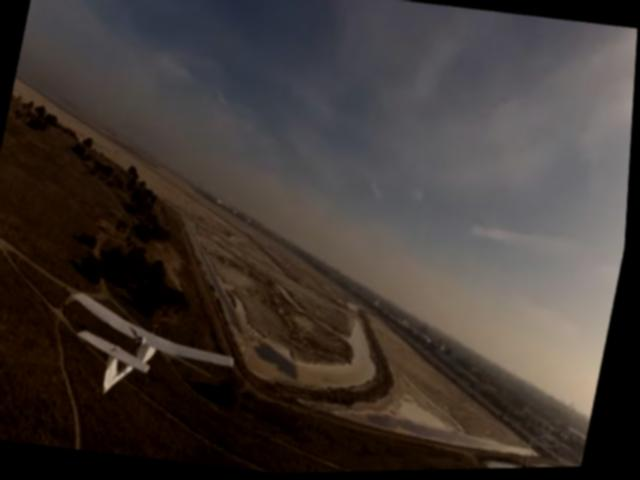uav: (50, 275, 258, 425)
